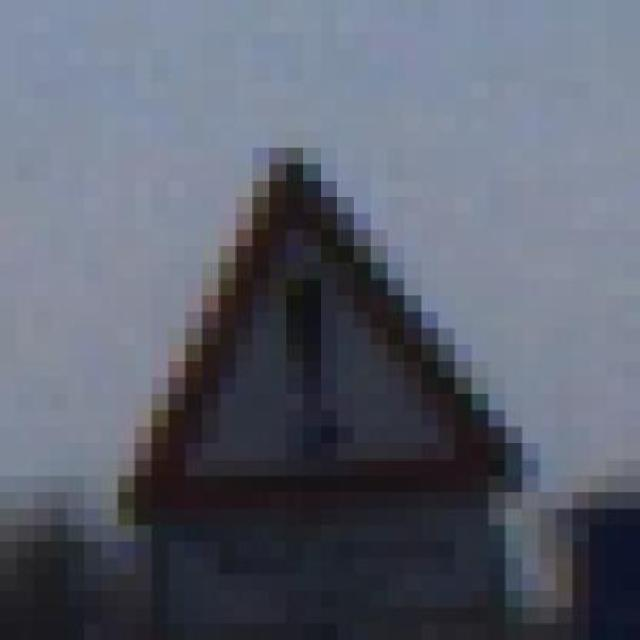Attention Please-: (50, 130, 556, 542)
